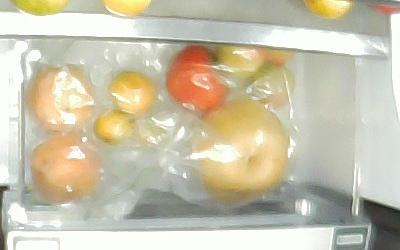peach_vinyl: (28, 133, 101, 201), (28, 62, 94, 132)
pear_vinyl: (191, 97, 287, 200)
tangerine_vinyl: (106, 70, 156, 115), (92, 108, 133, 146)
tomato_vinyl: (165, 43, 229, 112), (242, 61, 295, 107), (215, 46, 265, 80), (264, 48, 297, 66)
